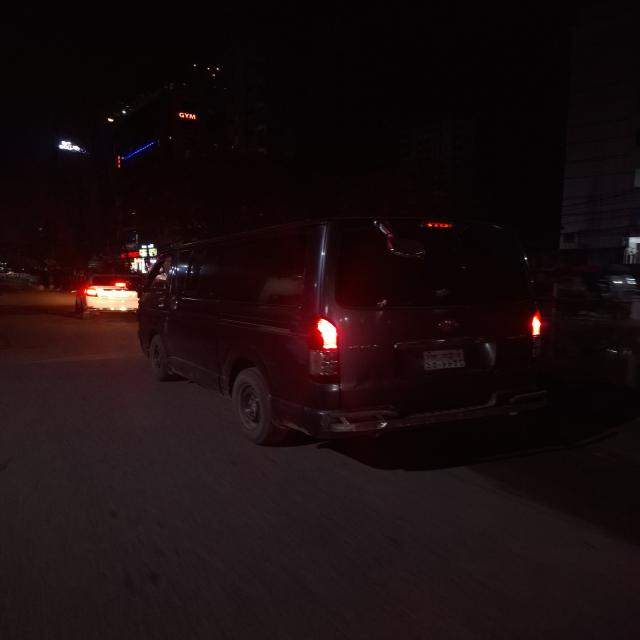car: (129, 209, 552, 450), (65, 260, 146, 320)
